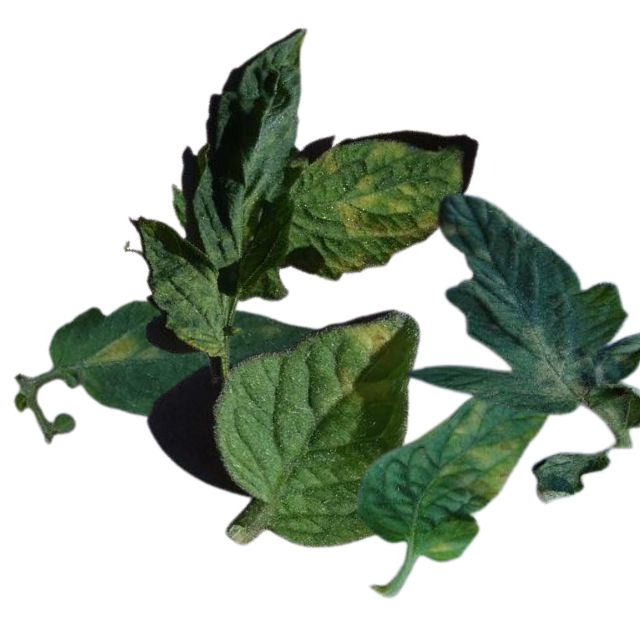Leaf_Mold: (330, 179, 440, 278), (443, 400, 534, 503), (512, 324, 596, 401), (342, 318, 389, 354), (89, 334, 139, 365), (314, 148, 338, 179), (334, 366, 351, 392)
